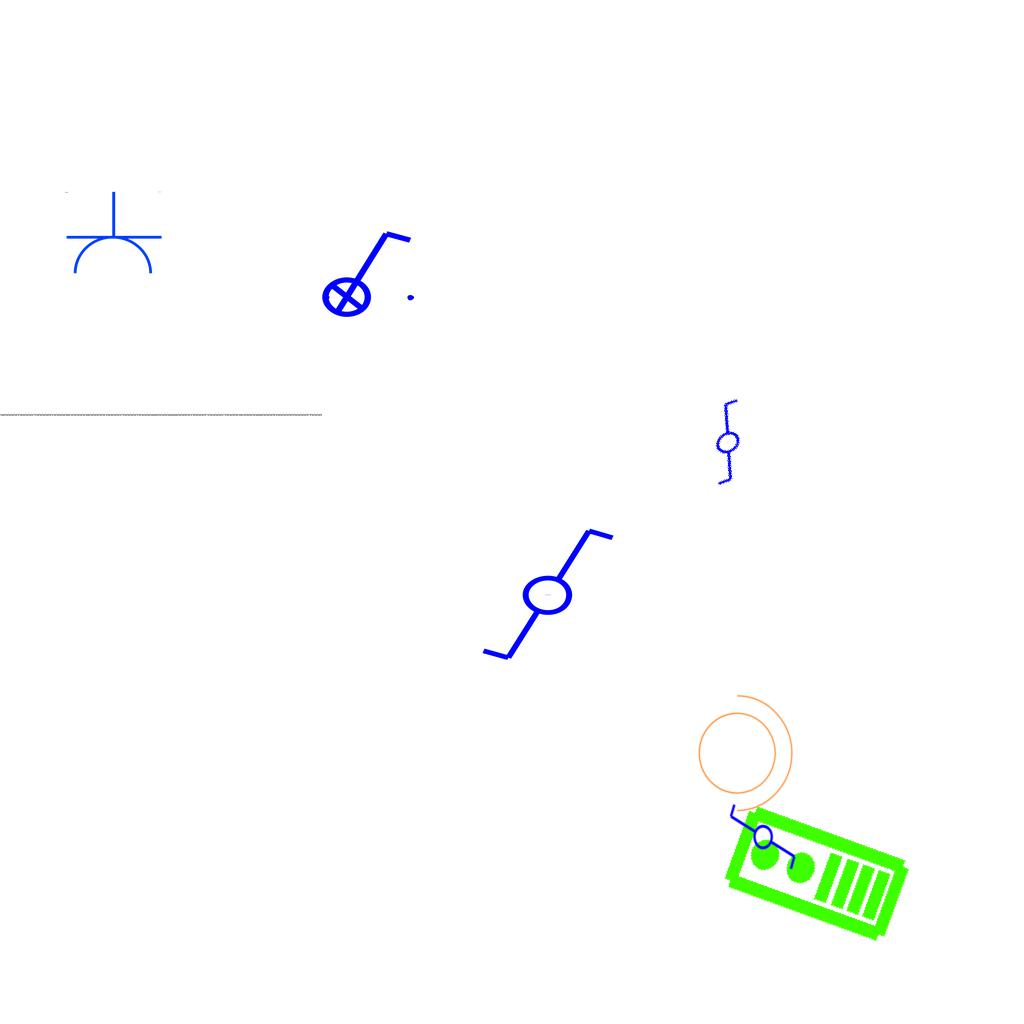Ausschalter_beleuchtet: (308, 223, 420, 319)
Gegensprechanlage_mit_Video: (716, 800, 915, 950)
Scheinwerfer_fuer_Alarmbeleuchtung: (686, 684, 798, 816)
Schukosteckdose_einfach: (63, 191, 163, 278)
Wechselschalter: (461, 521, 618, 665), (671, 391, 777, 497), (726, 802, 798, 880)
